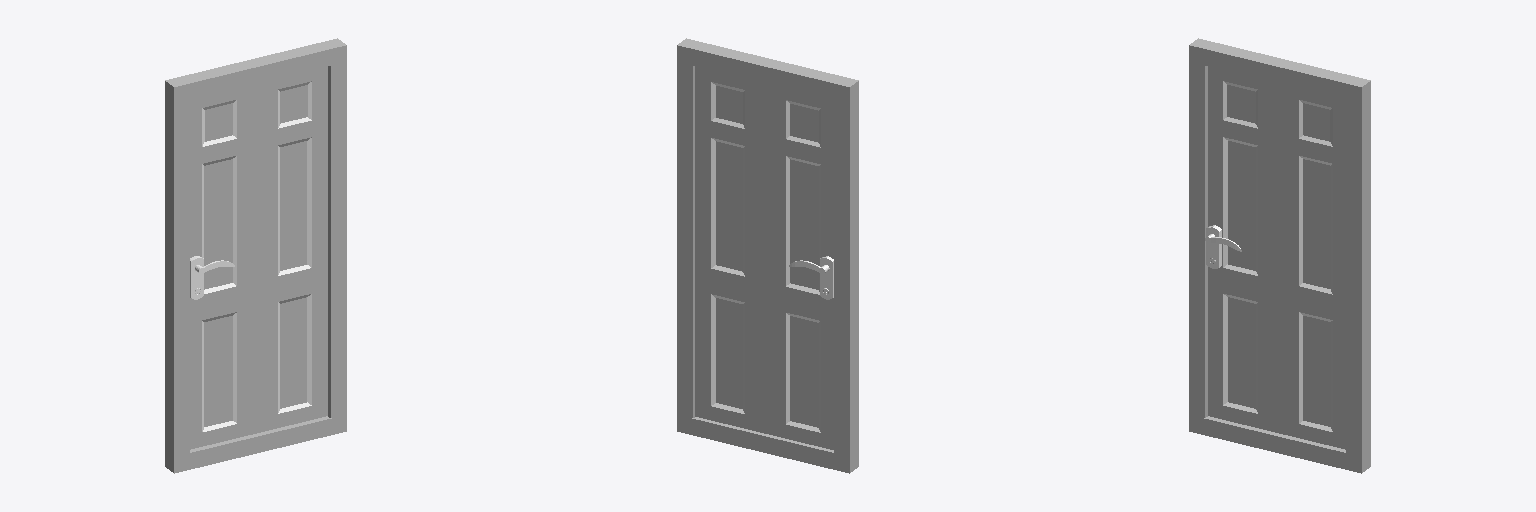
The model's file is porta.obj.
The picture shows the model from 3 angles: view 1: azimuth 30°, elevation 25°; view 2: azimuth 150°, elevation 25°; view 3: azimuth 330°, elevation 25°; orthographic projection.
Visible parts, largest first — view 1: pCube5, polySurface1, Door; view 2: pCube5, polySurface1, Door; view 3: pCube5, polySurface1, Door.
Boxes of the visible parts, x1=… form: pCube5: x1=190, y1=67, x2=327, y2=449; polySurface1: x1=165, y1=38, x2=346, y2=473; Door: x1=190, y1=256, x2=234, y2=299; pCube5: x1=695, y1=66, x2=833, y2=449; polySurface1: x1=677, y1=38, x2=858, y2=473; Door: x1=789, y1=256, x2=833, y2=299; pCube5: x1=1208, y1=67, x2=1345, y2=449; polySurface1: x1=1189, y1=38, x2=1370, y2=473; Door: x1=1205, y1=225, x2=1241, y2=268.
Size of the model in its own units: 20.54 by 43.89 by 3.66.